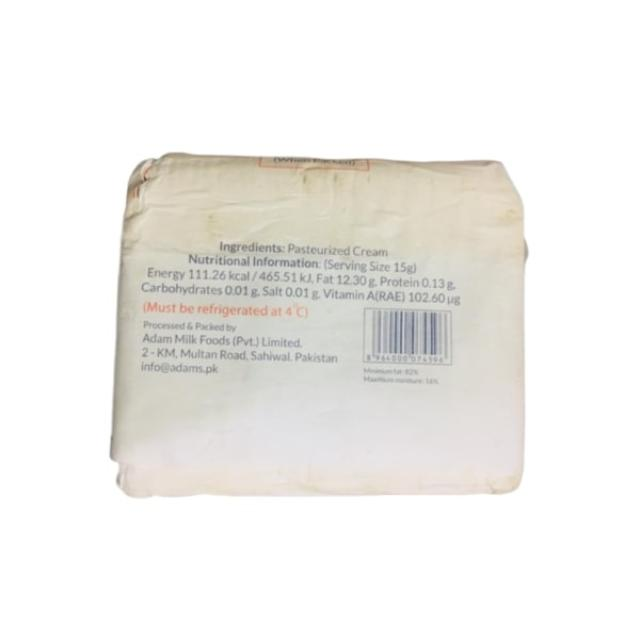butter: (109, 152, 527, 498)
